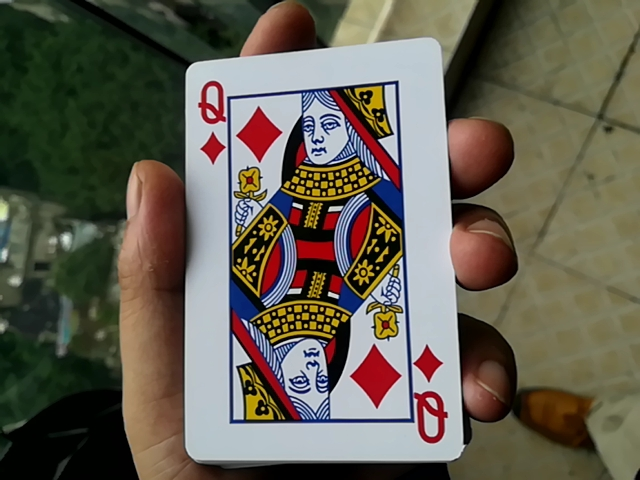fk q: (164, 24, 465, 458)
